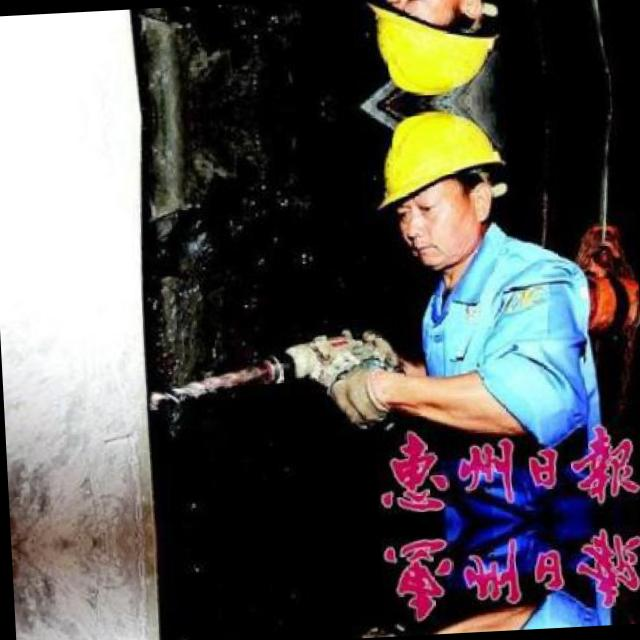helmet: (363, 98, 518, 278), (357, 0, 510, 106)
